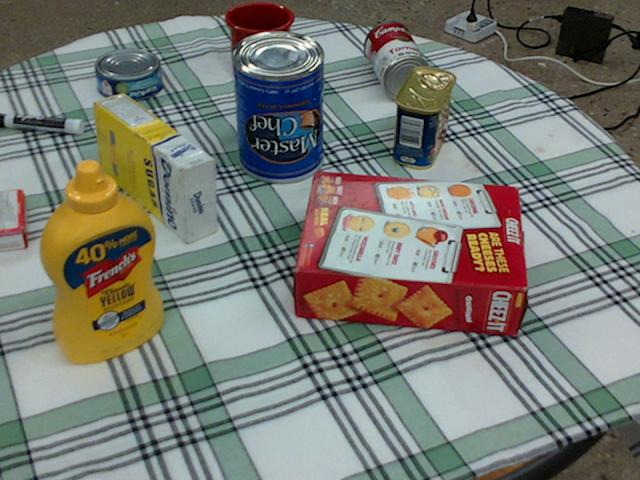cracker_box: (296, 170, 527, 334)
gelatin_box: (0, 189, 28, 251)
large_marker: (0, 112, 82, 134)
master_chef_can: (230, 31, 322, 182)
mug: (226, 1, 295, 82)
mustard_bottle: (39, 160, 162, 360)
potted_meat_can: (392, 67, 453, 168)
sugar_box: (92, 93, 216, 242)
tomato_soup_can: (364, 21, 429, 99)
tuna_fish_can: (95, 48, 162, 100)
